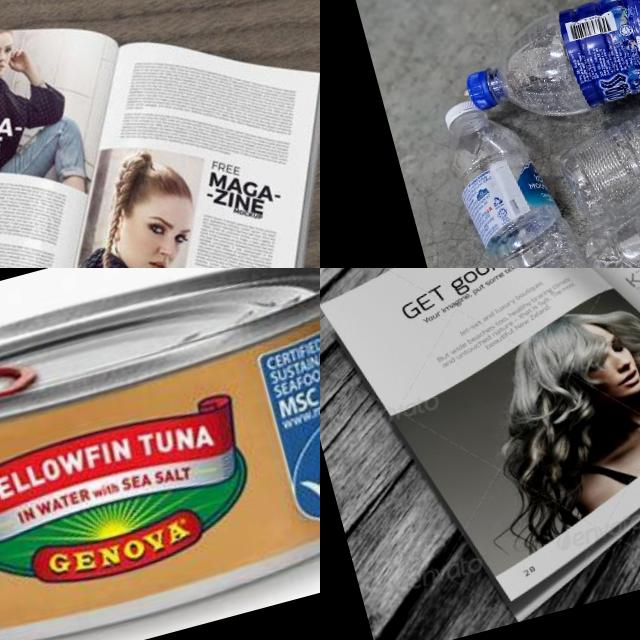garrafa plástica: (441, 102, 629, 268), (482, 0, 640, 126), (549, 53, 640, 221)
lata: (0, 268, 320, 640)
papel: (320, 268, 640, 640), (0, 0, 320, 268)
tampa plástica: (464, 66, 504, 116), (439, 94, 484, 133)
